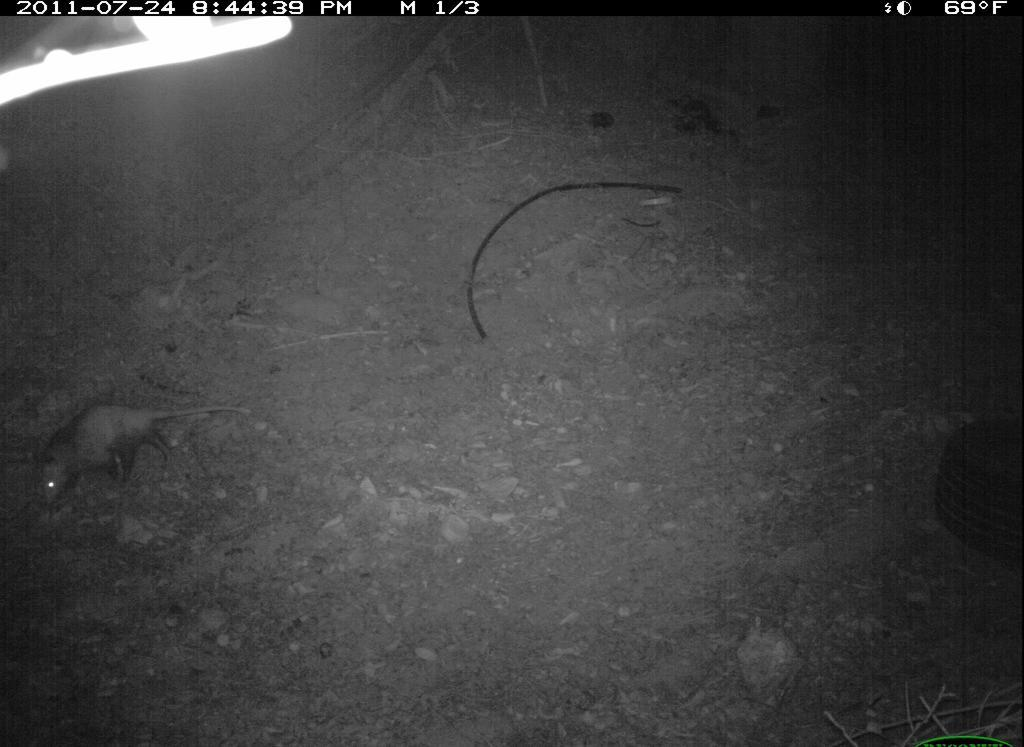opossum: (20, 385, 260, 511)
